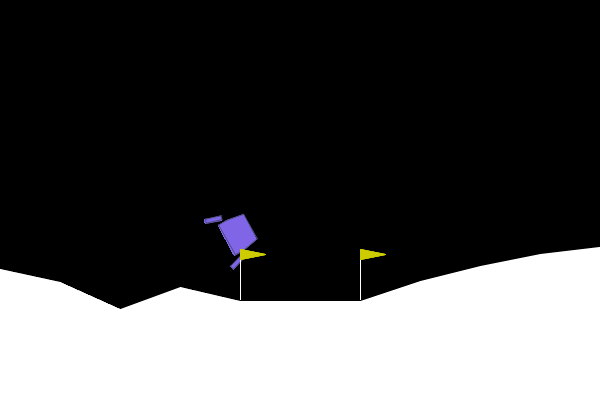lander: (202, 200, 267, 272)
